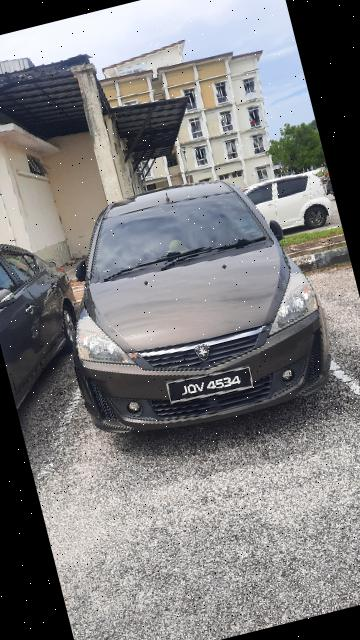License_Plate: (165, 355, 267, 415)
car: (38, 132, 360, 482)
